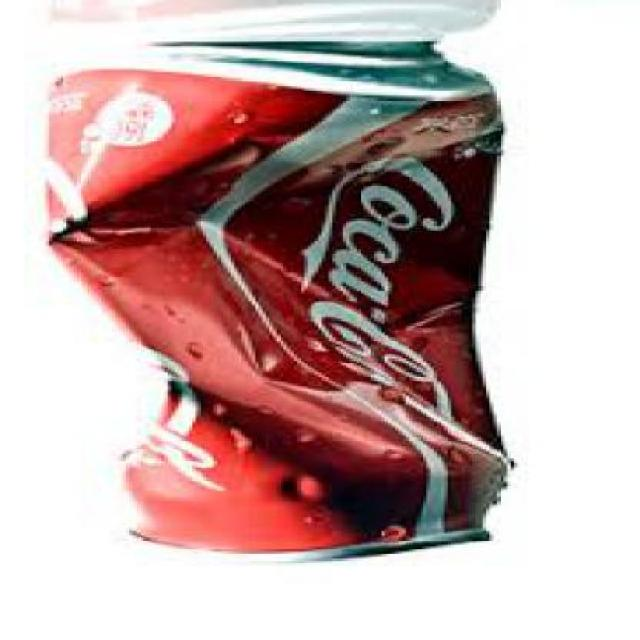METAL: (49, 41, 522, 568)
